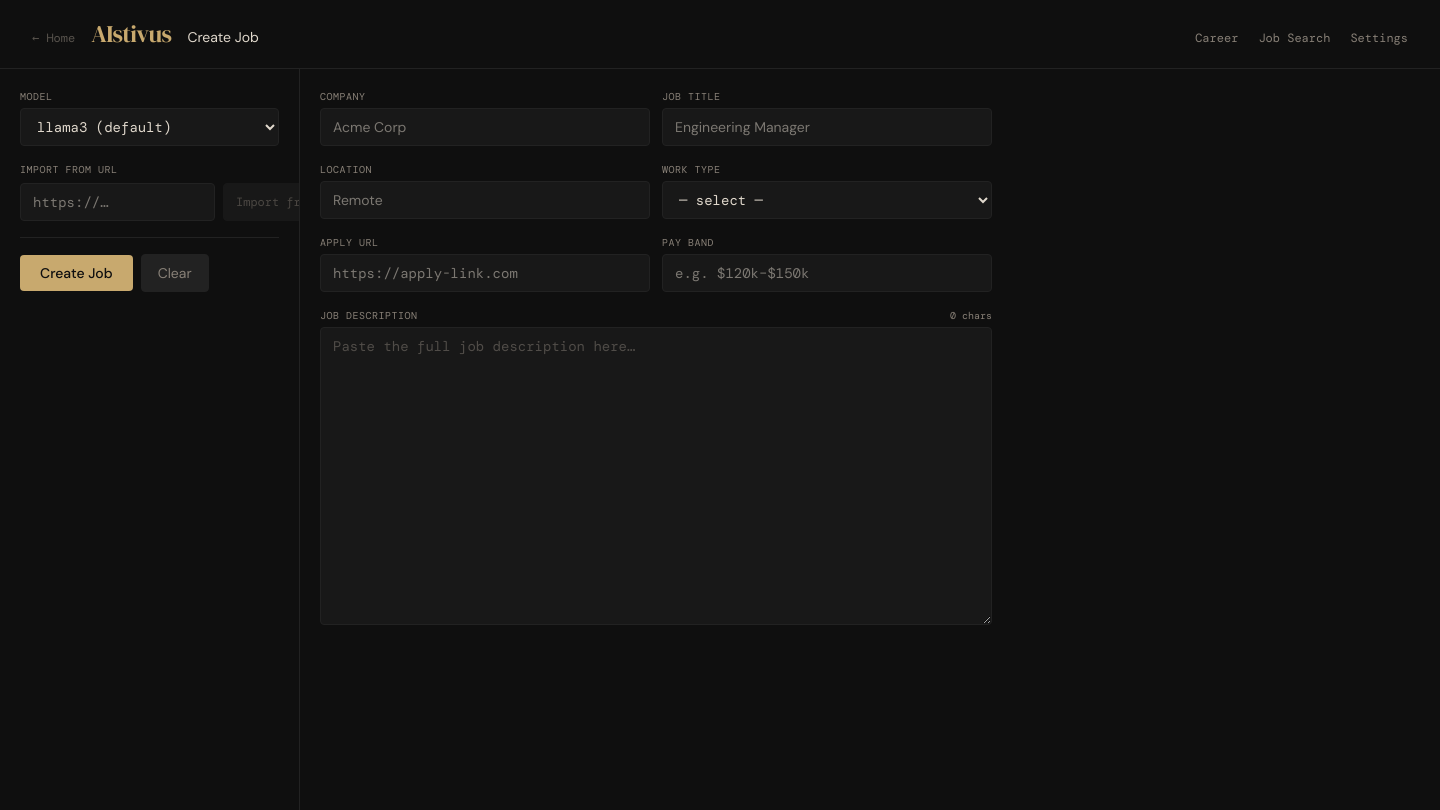
Test case: CreateJob › shows error when Create Job clicked without company
Click the button "Create Job".
click(76, 273)  # box [20,255,133,291]
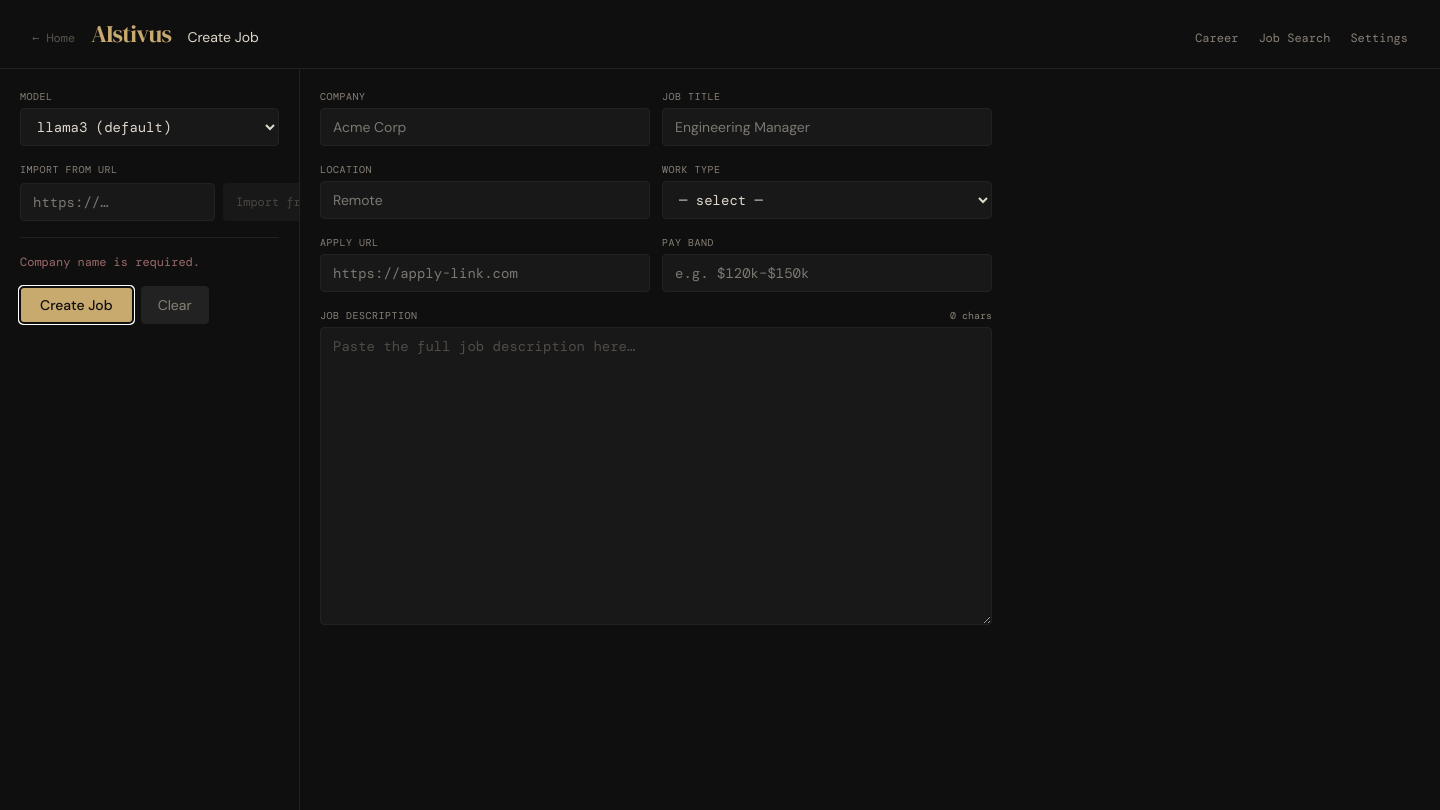
Expected: the text "Company name is required." is shown, [20,254,200,270]
